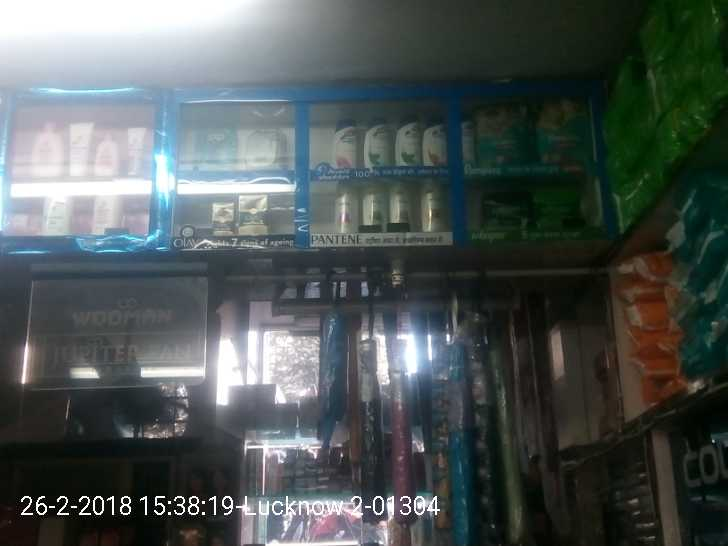venus: (244, 127, 284, 169), (195, 128, 237, 168)
